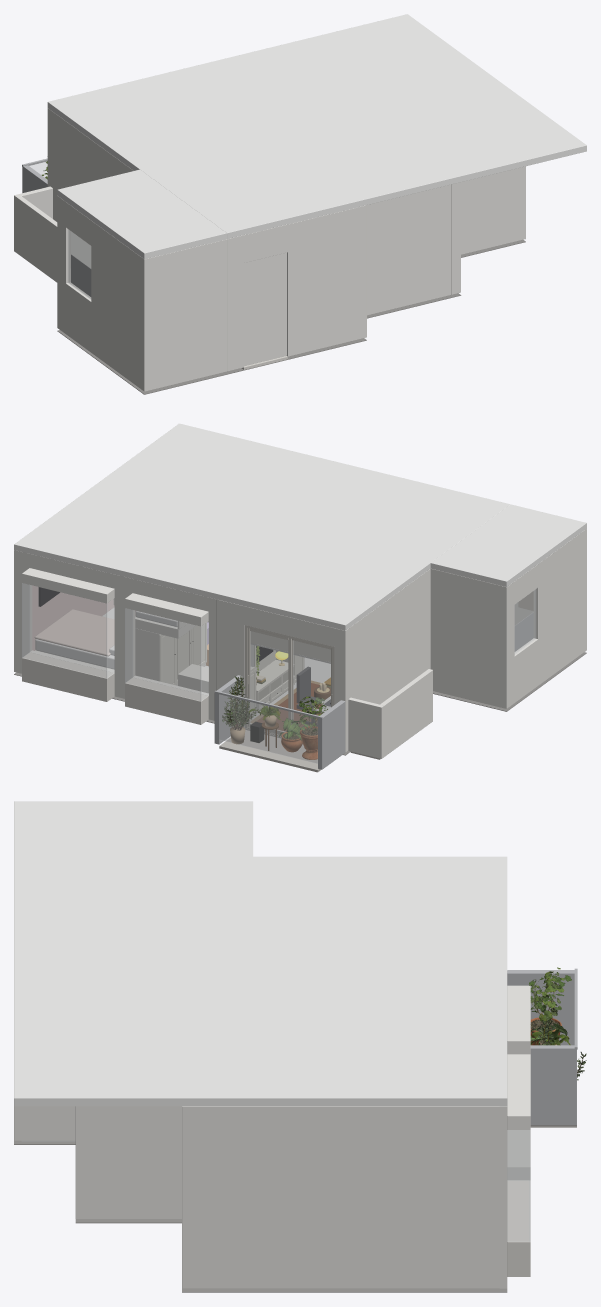
3 renders of one model, top to bottom at view 1: azimuth 30°, elevation 25°; view 2: azimuth 150°, elevation 25°; view 3: azimuth 270°, elevation 25°, orthographic. The views are drawn at different scales.
Visible parts, largest first — view 1: Ceiling, Wall S living, Wall S kitchen, Wall kitchen W, Wall bath south, Ceiling kitchen, Wall MBR south, Door main, Wall W living, Parapet utility, Window kitchen, Wall kitchen top (+6 smaller); view 2: Ceiling, Wall kitchen top, Wall kitchen W, Wall W living, Wall N bedrooms, Ceiling kitchen, Bay glass 1, Bay glass 0, Wall N living, Balcony glass, Balcony door E glass, Bay sill 1 (+29 smaller); view 3: Ceiling, Wall E, Ceiling kitchen, Wall bath-MBR, Balcony rail E, Bay glass side R 1, Bay sill 1, Wall living-bath, Balcony rail W, Bay head 1, Bay head 0, Bay sill 0 (+3 smaller).
Boxes of the visible parts, x1,y1,x2,y2 form: Ceiling: [47, 14, 586, 238]; Wall S living: [231, 206, 363, 370]; Wall S kitchen: [141, 239, 226, 391]; Wall kitchen W: [57, 196, 144, 390]; Wall bath south: [367, 184, 451, 315]; Ceiling kitchen: [57, 169, 226, 259]; Wall MBR south: [461, 166, 525, 254]; Door main: [244, 252, 286, 365]; Wall W living: [49, 110, 231, 371]; Parapet utility: [16, 196, 57, 282]; Window kitchen: [68, 229, 90, 299]; Wall kitchen top: [57, 196, 91, 330]; Ceiling: [14, 423, 510, 630]; Wall kitchen top: [430, 568, 510, 708]; Wall kitchen W: [502, 528, 586, 708]; Wall W living: [345, 569, 430, 751]; Wall N bedrooms: [14, 550, 216, 720]; Ceiling kitchen: [430, 504, 586, 586]; Bay glass 1: [22, 583, 106, 678]; Bay glass 0: [125, 608, 201, 701]; Wall N living: [216, 599, 347, 752]; Balcony glass: [219, 694, 317, 763]; Balcony door E glass: [250, 631, 287, 731]; Bay sill 1: [22, 652, 114, 701]; Ceiling: [14, 856, 507, 1106]; Wall E: [182, 1106, 507, 1288]; Ceiling kitchen: [14, 801, 253, 856]; Wall bath-MBR: [75, 1106, 181, 1218]; Balcony rail E: [530, 1045, 576, 1125]; Bay glass side R 1: [507, 1130, 530, 1241]; Bay sill 1: [507, 1180, 530, 1276]; Wall living-bath: [14, 1106, 75, 1140]; Balcony rail W: [507, 970, 574, 1045]; Bay head 1: [507, 1054, 530, 1129]; Bay head 0: [507, 985, 530, 1054]; Bay sill 0: [507, 1130, 530, 1179].
Size of the model in its own units: 9.1 by 2.8 by 7.42.
Materials: 203 (31 with a texture image).
